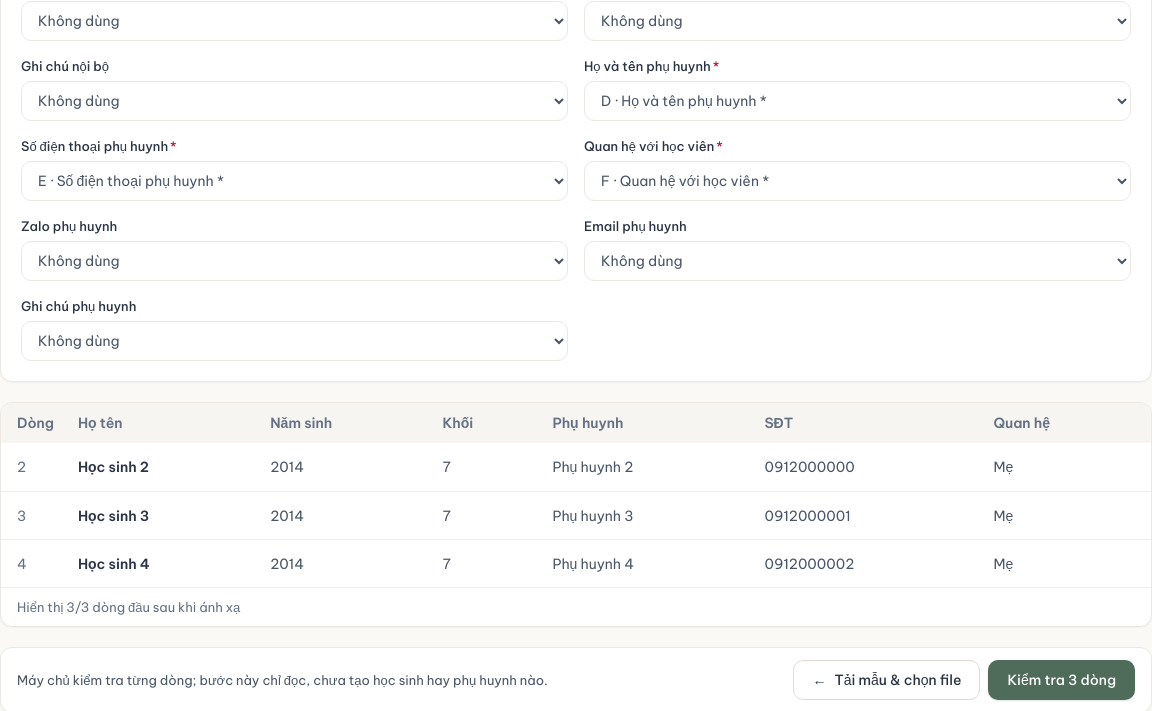
Test: StudentImportPage wizard › drops a dry-run failure that lands after the mapping changed
(page scrolled)
Click the button "Kiểm tra 3 dòng". click: {"x": 1062, "y": 680}
box: [988, 660, 1135, 700]
(page scrolled)
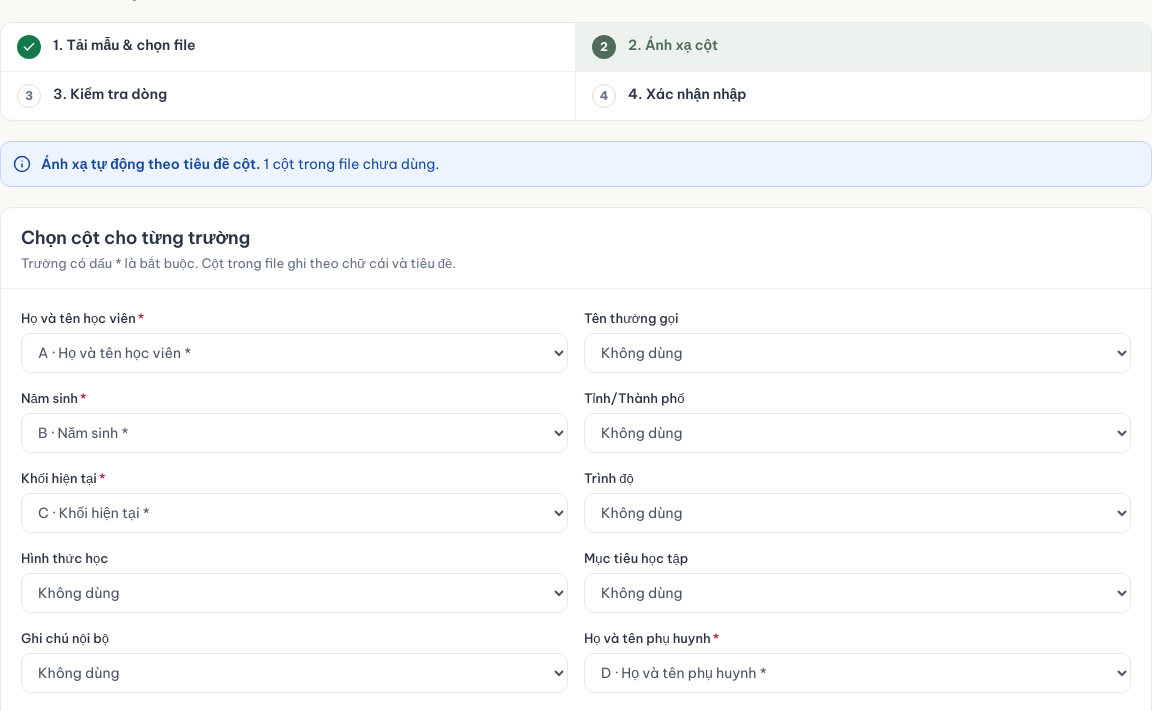
Select "G · Ghi chú khác" in the dropdown labelled "Tên thường gọi". click: {"x": 858, "y": 353}
box: [584, 333, 1131, 373]
(page scrolled)
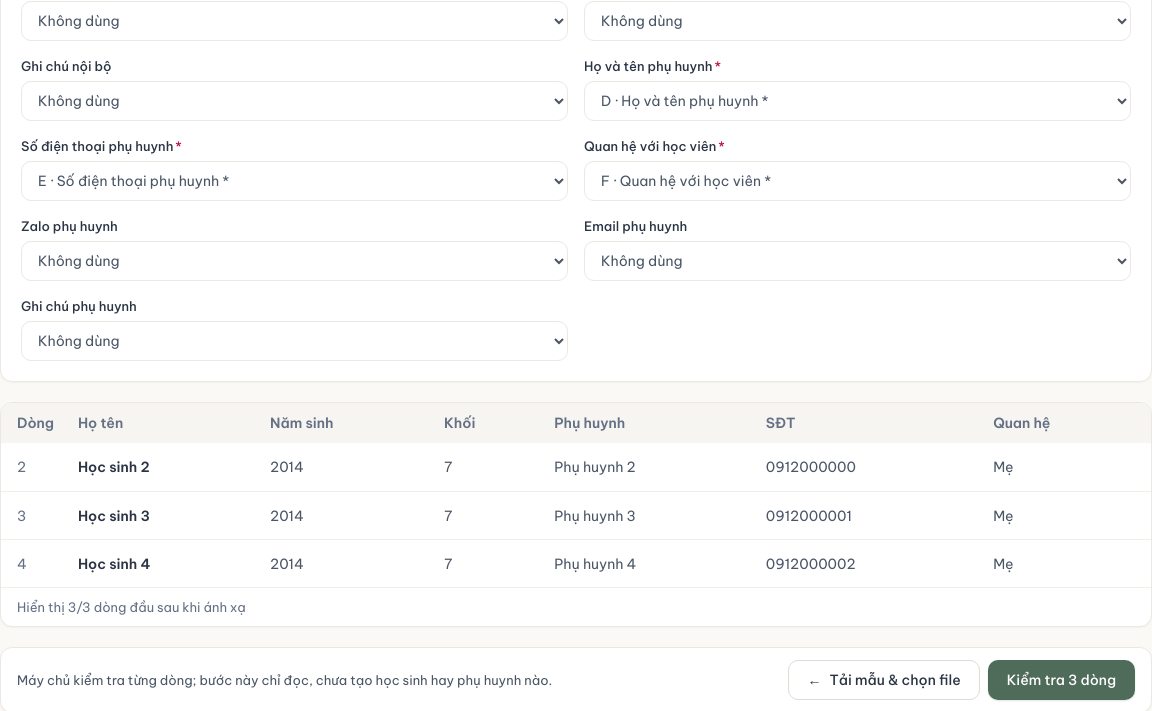
Result: the button "Kiểm tra 3 dòng" is enabled at [988, 660, 1135, 700]
